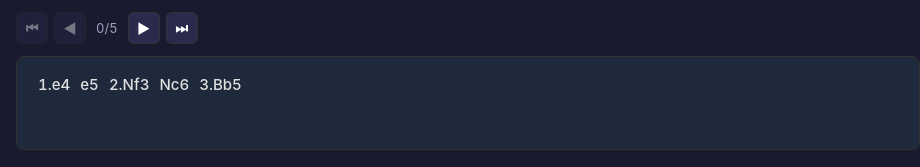
it: <InlinePgnViewer> › клик по ходу в нотации прыгает на этот ply, помечает текущим
Click the text with test id "review-move-2" at (129, 84), box x1=106 y1=74 x2=152 y2=95
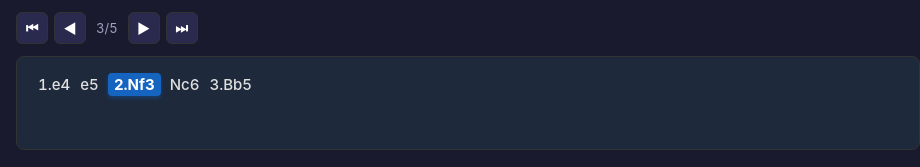
Check: the text with test id "inline-pgn-viewer-counter" reads "3/5", box x1=96 y1=20 x2=118 y2=36
